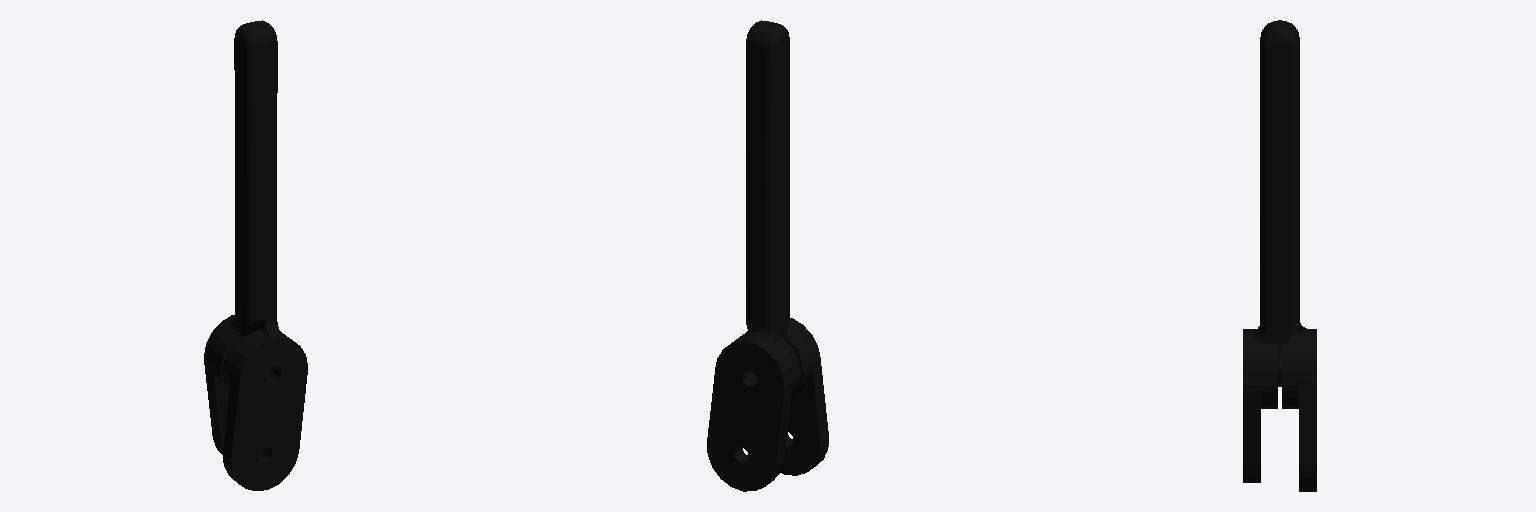
robot.urdf — gripper:
<?xml version="1.0" encoding="utf-8"?>
<!-- This URDF was automatically created by SolidWorks to URDF Exporter! Originally created by Stephen Brawner (brawner@gmail.com) 
     Commit Version: 1.6.0-4-g7f85cfe  Build Version: 1.6.7995.38578
     For more information, please see http://wiki.ros.org/sw_urdf_exporter -->
<robot name="gripper">
  <material name="metal">
    <color rgba="0.7 0.7 0.7 1.0"/>
  </material>

  <material name="rubber">
    <color rgba="0.1 0.1 0.1 1.0"/>
  </material>
  <link
    name="base_link">
    <inertial>
      <origin
        xyz="-0.000108988198213866 0.0150637349714027 0.034737922321171"
        rpy="0 0 0" />
      <mass
        value="0.126197099327978" />
      <inertia
        ixx="0.000126380144762793"
        ixy="-1.10206153385678E-08"
        ixz="2.78005539592273E-07"
        iyy="9.14388156764594E-05"
        iyz="1.20840381379242E-06"
        izz="7.71495284272129E-05" />
    </inertial>
    <visual>
      <origin
        xyz="0 0 0"
        rpy="0 0 0" />
      <geometry>
        <mesh
          filename="meshes/base_link.STL" />
      </geometry>
      <material name="metal"/>
    </visual>
    <collision>
      <origin
        xyz="0 0 0"
        rpy="0 0 0" />
      <geometry>
        <mesh
          filename="meshes/base_link.STL" />
      </geometry>
    </collision>
  </link>
  <link
    name="gripper_link">
    <inertial>
      <origin
        xyz="7.86100729455869E-05 -0.000549324496472312 0.00373803056031818"
        rpy="0 0 0" />
      <mass
        value="5.13688661749737E-02" />
      <inertia
        ixx="2.12475112788677E-09"
        ixy="-7.76095028552687E-12"
        ixz="-7.9716196478143E-11"
        iyy="2.13340904932851E-09"
        iyz="-1.53622683296432E-10"
        izz="5.75046949735371E-11" />
    </inertial>
    <visual>
      <origin
        xyz="0 0 0"
        rpy="0 0 0" />
      <geometry>
        <mesh
          filename="meshes/gripper_link.STL" />
      </geometry>
      <material name="rubber"/>
    </visual>
    <collision>
      <origin
        xyz="0 0 0"
        rpy="0 0 0" />
      <geometry>
        <mesh
          filename="meshes/gripper_link.STL" />
      </geometry>
    </collision>
  </link>
  <joint
    name="gripper_joint"
    type="revolute">
    <origin
      xyz="0 0 0.3"
      rpy="0 0 0" />
    <parent
      link="base_link" />
    <child
      link="gripper_link" />
    <axis
      xyz="0 1 0" />
    <limit
      lower="0"
      upper="0.5"
      effort="10"
      velocity="1.0" />
  </joint>
  <link
    name="mimic_Link">
    <inertial>
      <origin
        xyz="-7.83876141366435E-05 0.000549803920175951 0.00373803641050918"
        rpy="0 0 0" />
      <mass
        value="5.13688212985406E-02" />
      <inertia
        ixx="2.12476053896579E-09"
        ixy="-7.75206914839629E-12"
        ixz="7.95929067938625E-11"
        iyy="2.13340895534297E-09"
        iyz="1.53623876992453E-10"
        izz="5.74953673512827E-11" />
    </inertial>
    <visual>
      <origin
        xyz="0 0 0"
        rpy="0 0 0" />
      <geometry>
        <mesh
          filename="meshes/mimic_Link.STL" />
      </geometry>
      <material name="rubber"/>
    </visual>
    <collision>
      <origin
        xyz="0 0 0"
        rpy="0 0 0" />
      <geometry>
        <mesh
          filename="meshes/mimic_Link.STL" />
      </geometry>
    </collision>
  </link>
  <joint
    name="mimic_joint"
    type="revolute">
    <origin
      xyz="0 0 0.3"
      rpy="0 0 0" />
    <parent
      link="base_link" />
    <child
      link="mimic_Link" />
    <axis
      xyz="0 1 0" />
    <limit
      lower="-0.5"
      upper="0"
      effort="10"
      velocity="1.0" />
    <mimic
      joint="gripper_joint"
      multiplier="-1"
      offset="0" />
  </joint>
</robot>

--- What the picture shows (computed from the rendered views, not written in the file) ---
Views: 3 orthographic renders of the robot side by side, from view 1: azimuth 30°, elevation 25°; view 2: azimuth 150°, elevation 25°; view 3: azimuth 270°, elevation 25°.
Robot: gripper — 3 links, 2 joints (2 revolute); root link base_link; default pose: every joint at zero.
Visible links, largest first — view 1: gripper_link, mimic_Link; view 2: mimic_Link, gripper_link; view 3: gripper_link, mimic_Link.
Boxes of the visible links, left/top/right/bottom form: gripper_link: left=223, top=20, right=307, bottom=490; mimic_Link: left=204, top=22, right=280, bottom=455; mimic_Link: left=707, top=22, right=801, bottom=491; gripper_link: left=743, top=20, right=828, bottom=475; gripper_link: left=1243, top=24, right=1299, bottom=482; mimic_Link: left=1260, top=20, right=1316, bottom=491.
Bounding box of the posed robot: 0.0046 × 0.0033 × 0.0231 m (x, y, z).
2 mesh visuals loaded from 3 distinct referenced files (2 binary STL); not drawn: 1 (reference not matched to a file when rendering).
